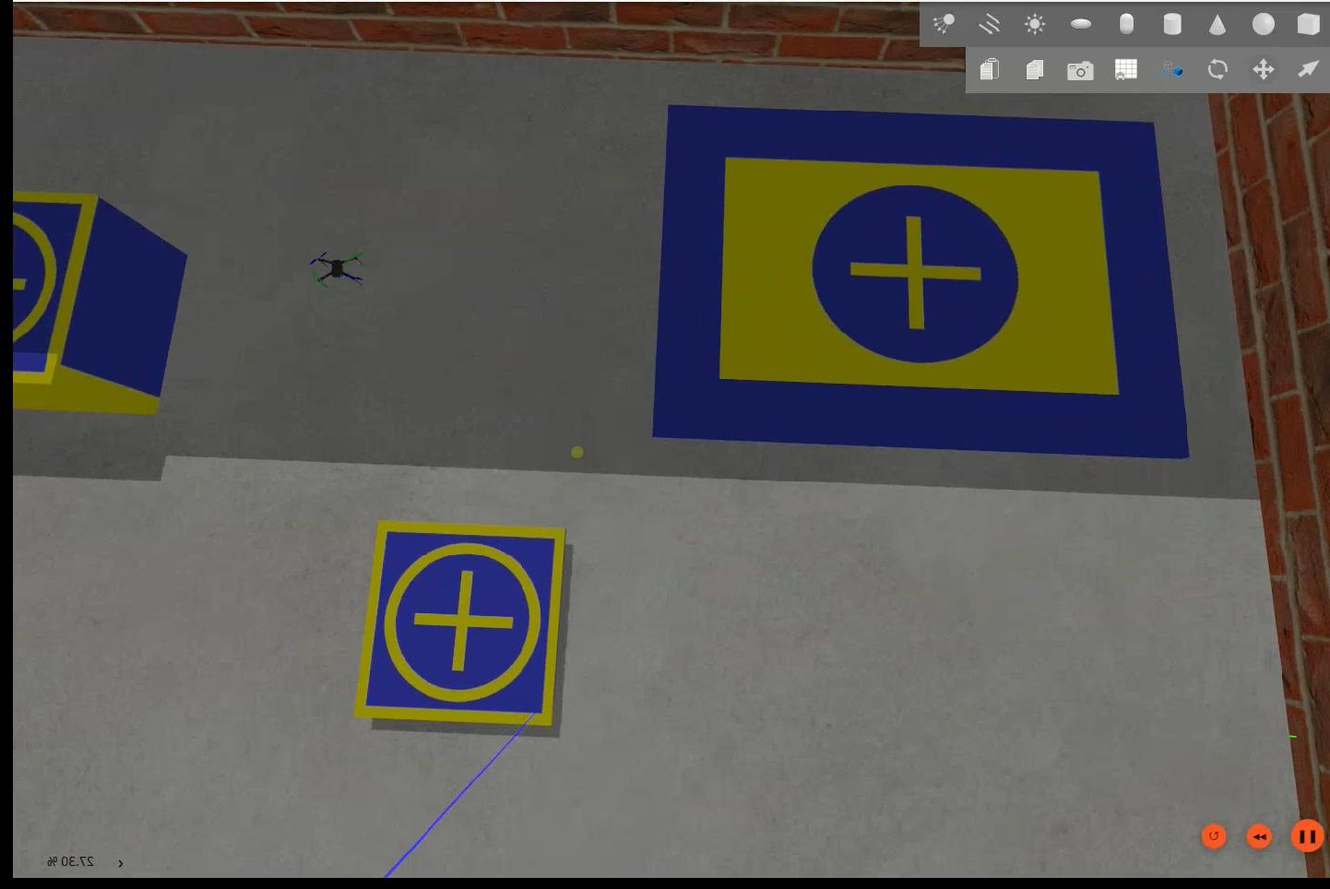large_base: (648, 104, 1191, 456)
small_base: (352, 523, 564, 728), (9, 192, 95, 384)
